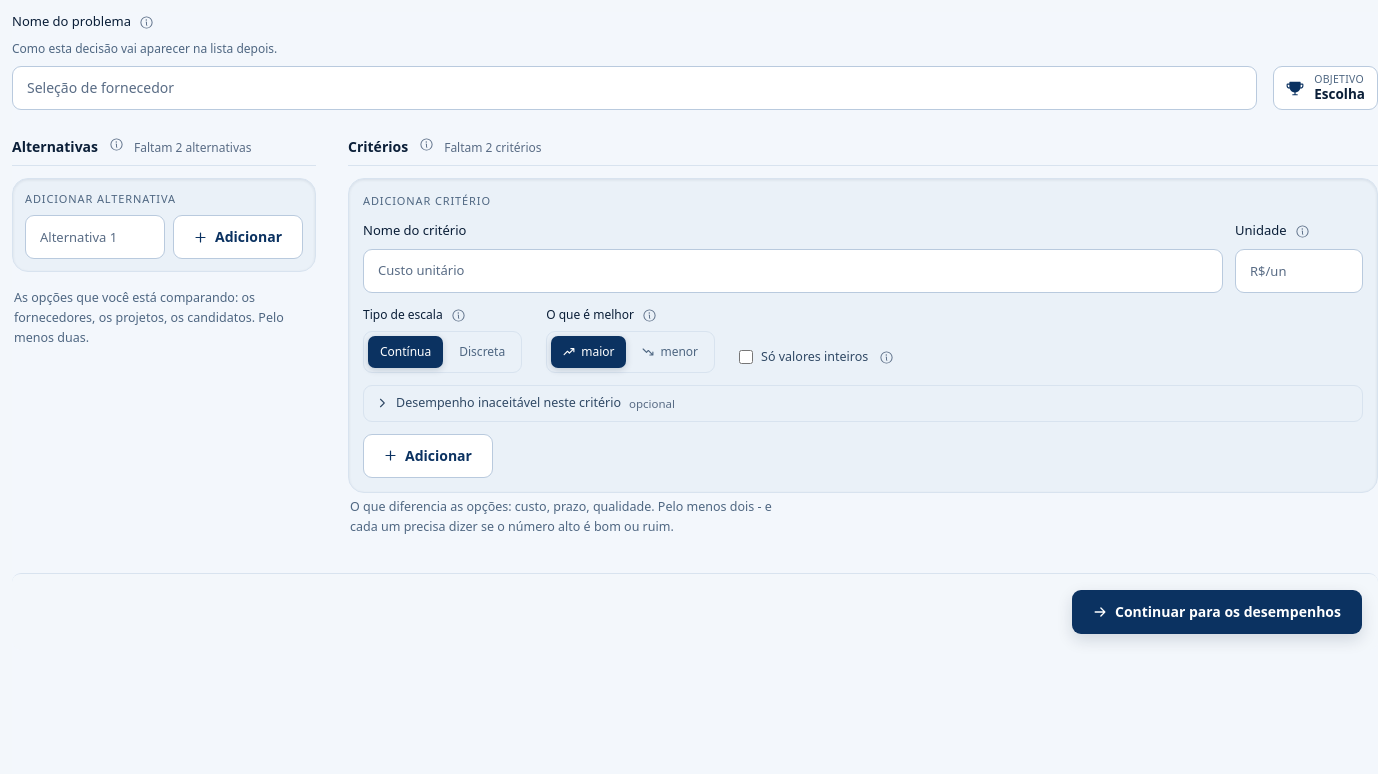
Test: lista de critérios › escala discreta troca a direção pelos níveis
In the field labelled "Nome do critério": coordinates (793, 270) x1=363 y1=248 x2=1223 y2=292, type "Conforto"
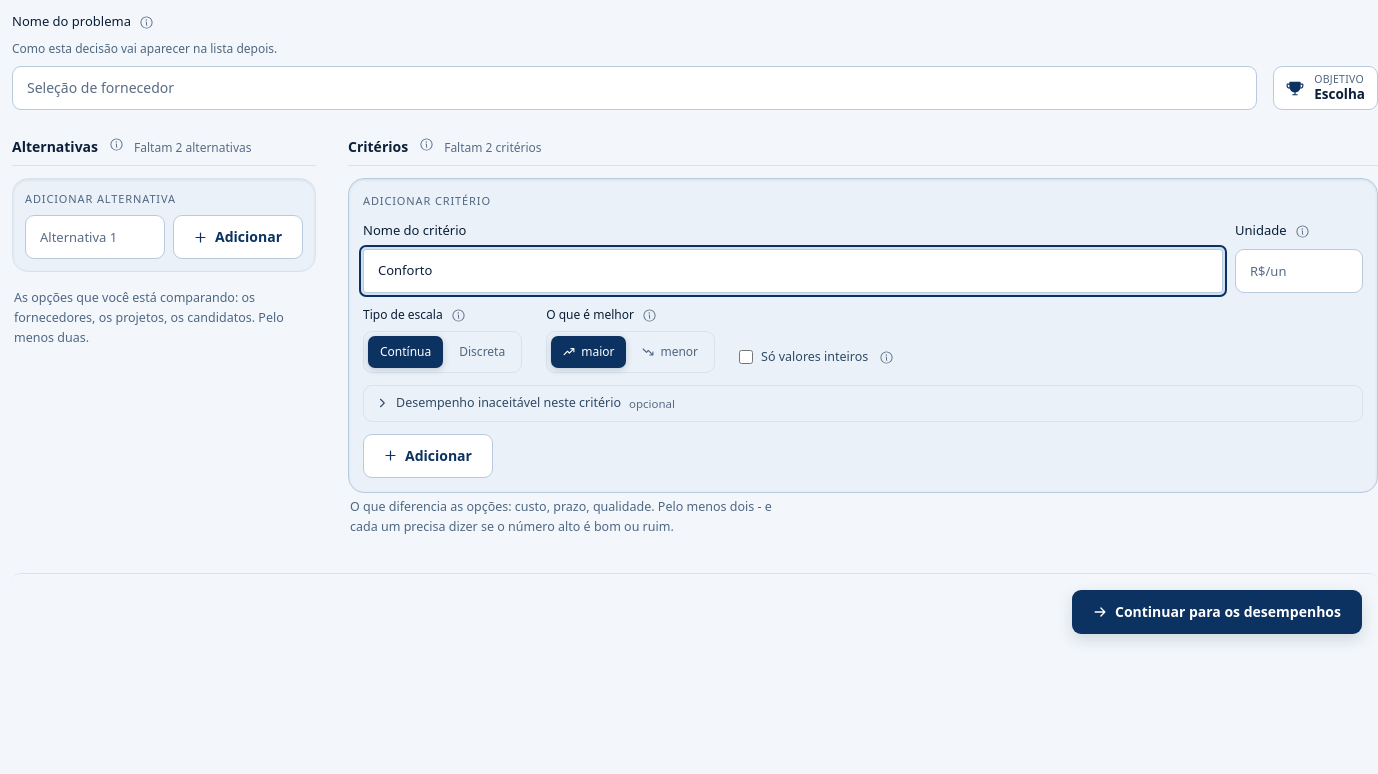
Click the radio button labelled "Discreta": coordinates (482, 352) x1=447 y1=336 x2=517 y2=368
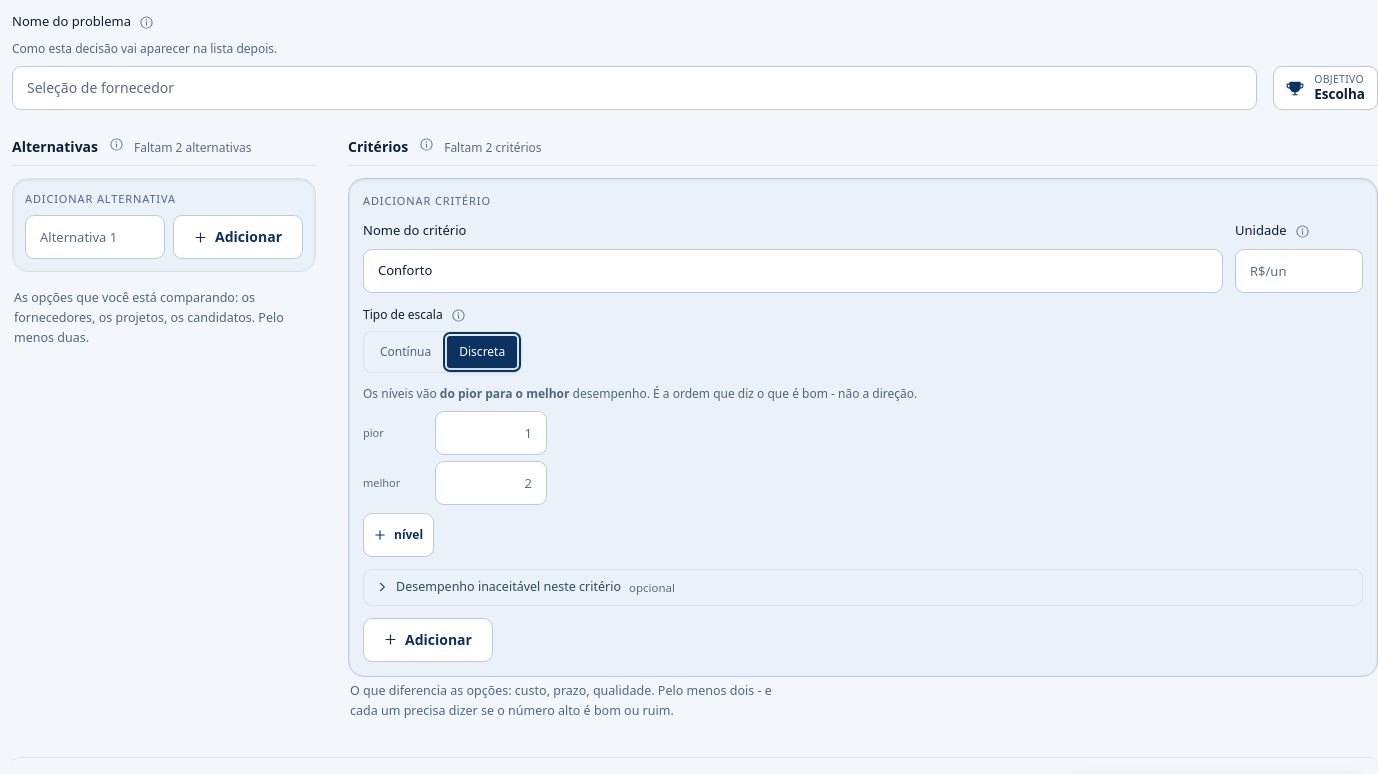
Expected: the field named "Nível 1" is shown, x1=435 y1=411 x2=547 y2=455
Expected: the field named "Nível 2" is shown, x1=435 y1=461 x2=547 y2=505
